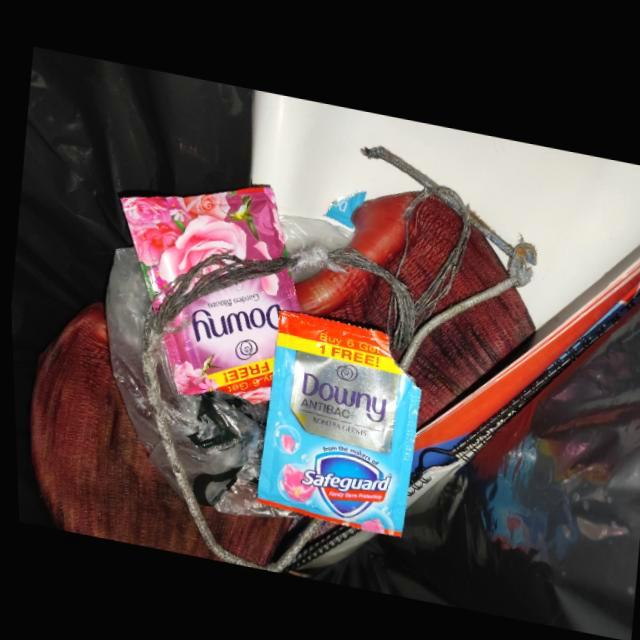plastic_sachet: (118, 181, 298, 401), (252, 306, 418, 532)
